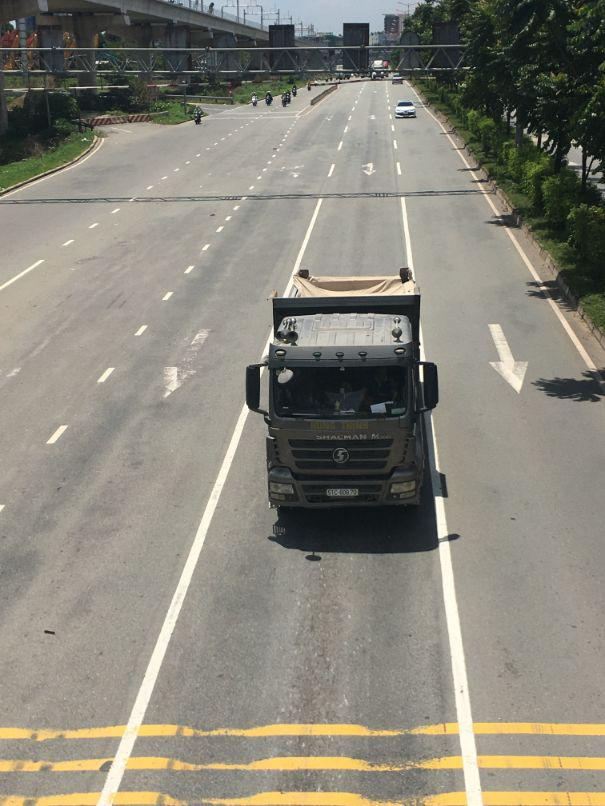car: (394, 101, 415, 119), (391, 73, 401, 83)
truck: (251, 280, 442, 520)
